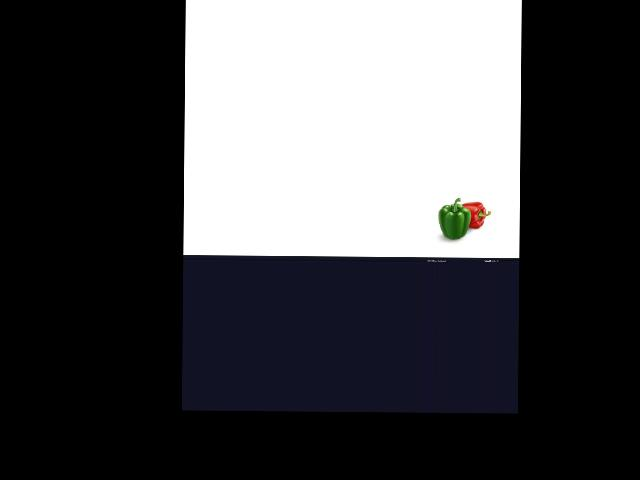bell_pepper: (460, 198, 490, 228)
